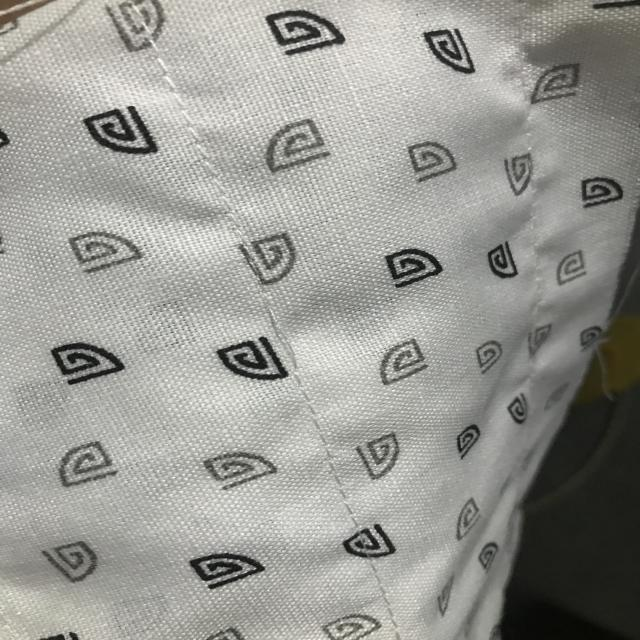good: (294, 399, 360, 518)
skip: (230, 296, 316, 384)
